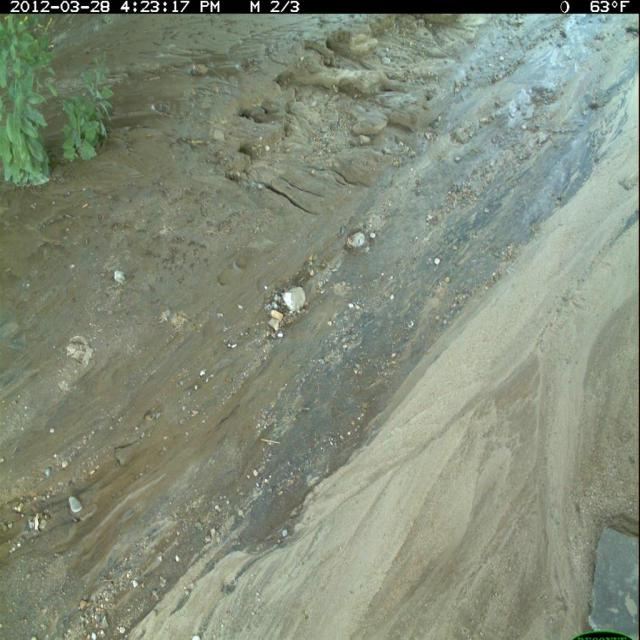bobcat: (613, 6, 639, 44)
